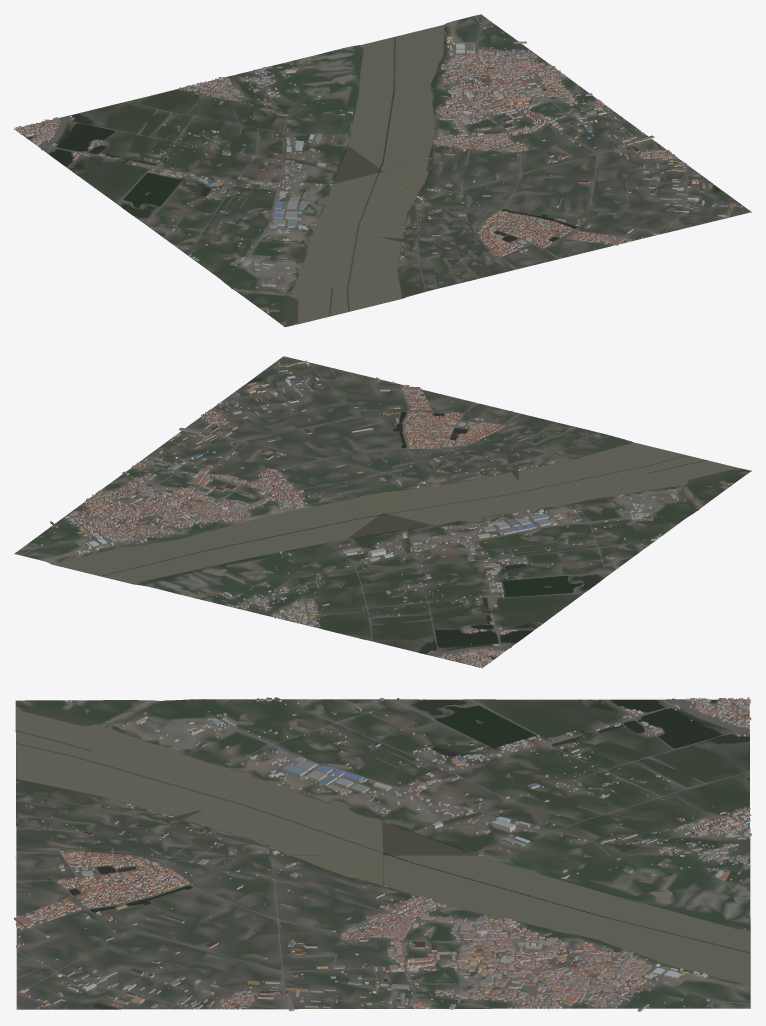
3 renders of one model, top to bottom at view 1: azimuth 30°, elevation 25°; view 2: azimuth 150°, elevation 25°; view 3: azimuth 270°, elevation 25°, orthographic. The views are drawn at different scales.
Parts seen in each view (by area): view 1: ground, water, buildings, roads; view 2: ground, water, buildings, roads; view 3: ground, water, buildings, roads.
Part boxes in pixels (x1,y1,x2,y2): ground: (14, 14, 751, 326); water: (26, 25, 720, 323); buildings: (14, 26, 742, 312); roads: (14, 15, 750, 291); ground: (14, 356, 751, 667); water: (52, 377, 737, 659); buildings: (33, 360, 731, 667); roads: (16, 356, 652, 668); ground: (15, 699, 750, 1009); water: (15, 699, 750, 1009); buildings: (14, 697, 751, 1011); roads: (16, 698, 750, 1009).
Bounding box in the file's own units: 2839 × 32.41 × 2819.
